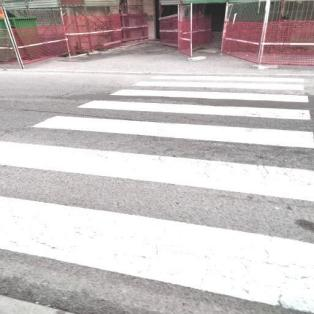Paso de Cebra: (0, 138, 313, 314), (72, 88, 312, 123)
